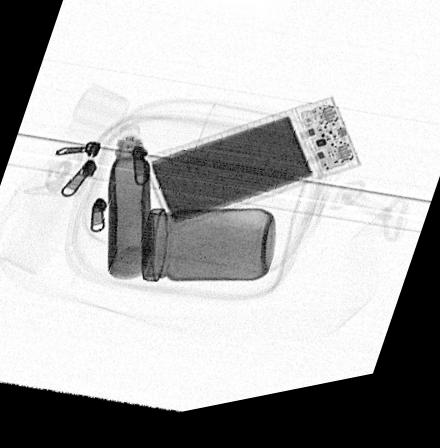Powerbank: (144, 110, 362, 235)
